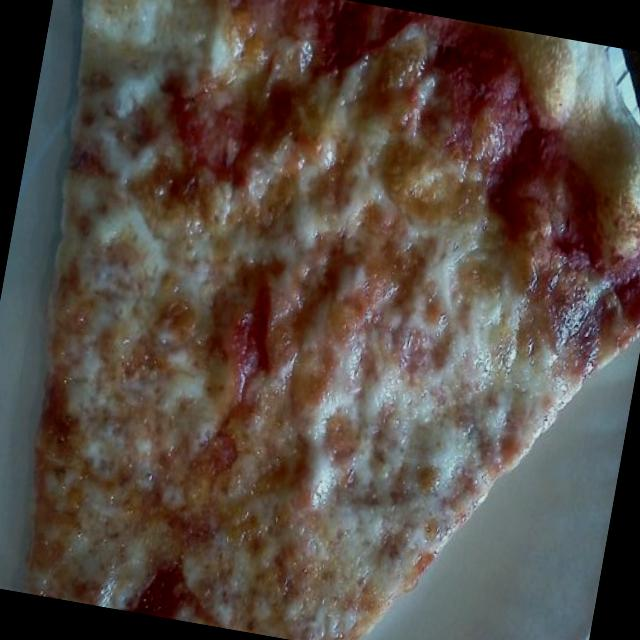pizza: (31, 0, 640, 640)
